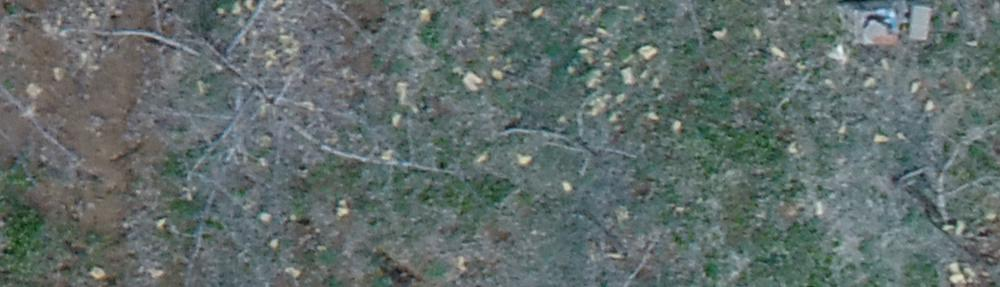apple: (85, 10, 431, 214), (494, 76, 645, 179)
